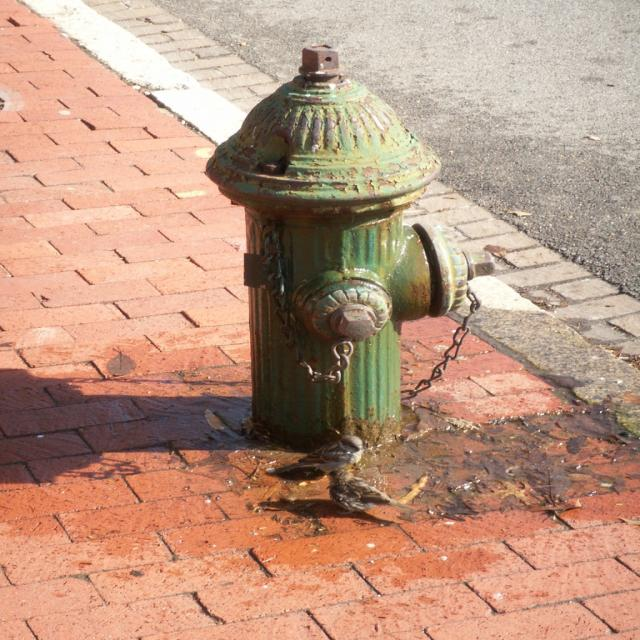fire_hydrant: (204, 40, 494, 451)
